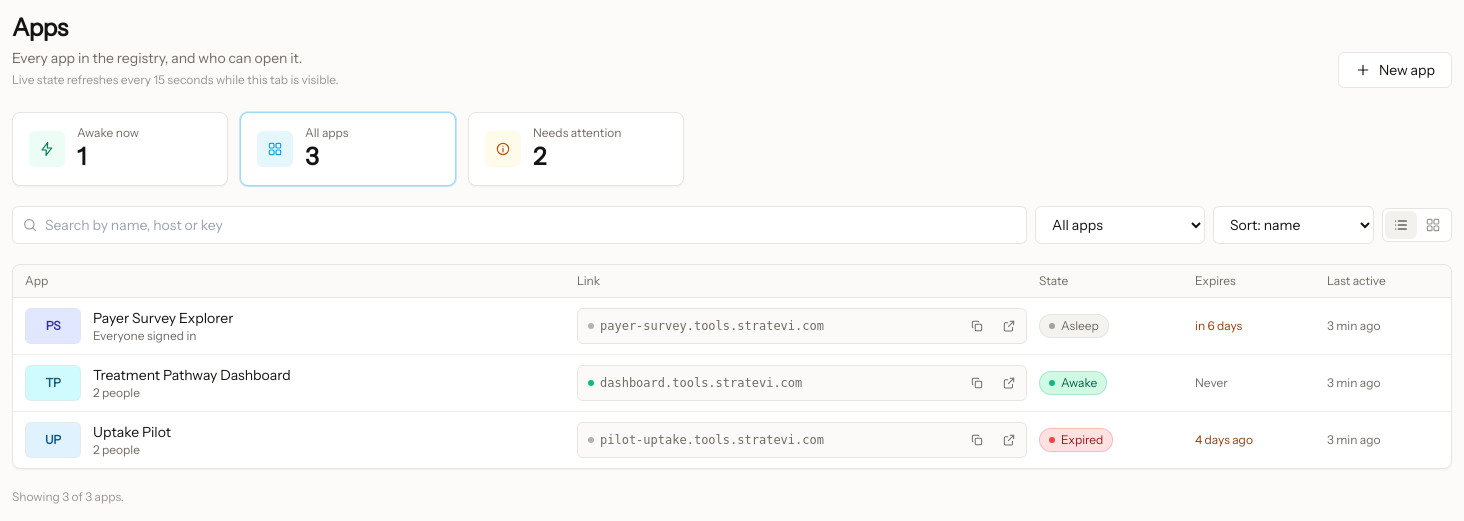
Test: AdminAppsPage › searches across label, host and key
The image size is (1464, 521).
Type "payer" into the search field named "Search apps" at (520, 225), box left=12, top=206, right=1027, bottom=244
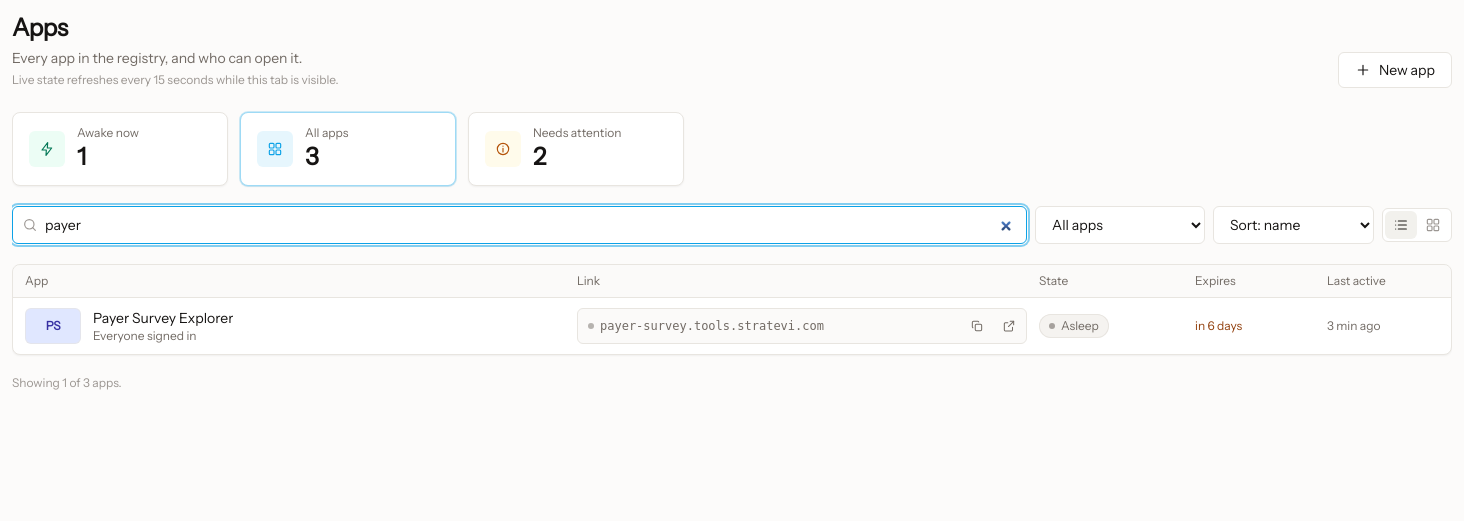
Expected: the link "Payer Survey Explorer" is shown, left=93, top=308, right=233, bottom=328
Expected: the link "Treatment Pathway" is gone
